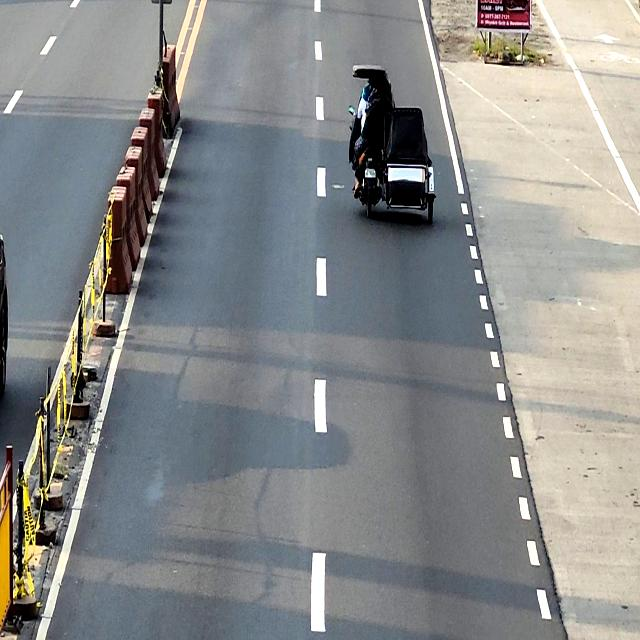License-Plate: (365, 168, 376, 178)
Tricycle: (349, 65, 436, 226)
